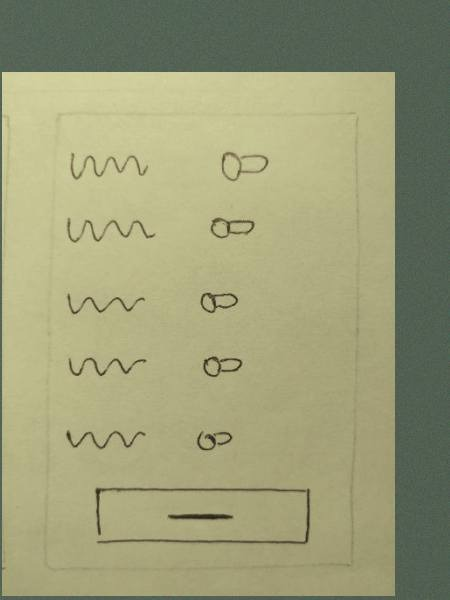button: (83, 480, 319, 552)
switch: (212, 140, 276, 187), (193, 343, 255, 390), (202, 209, 263, 249), (183, 423, 245, 455), (196, 285, 247, 321)
text: (56, 417, 151, 462), (65, 143, 149, 192), (58, 209, 156, 250), (61, 284, 148, 325), (57, 348, 150, 383)
